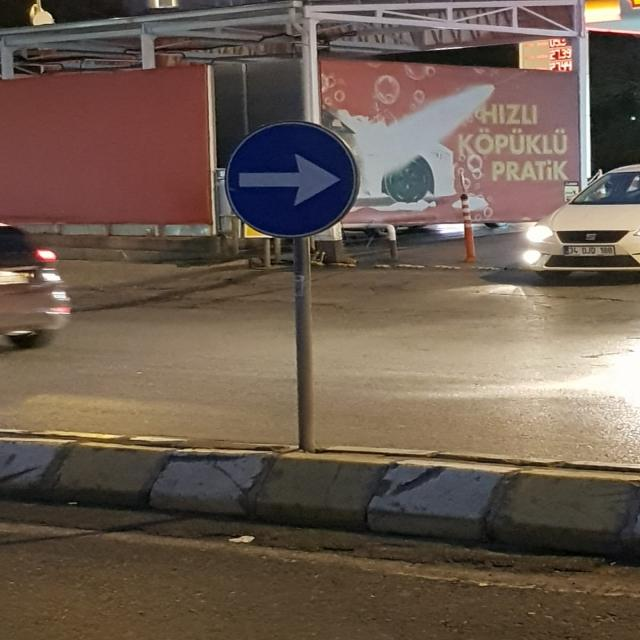Turn Right: (226, 126, 364, 240)
